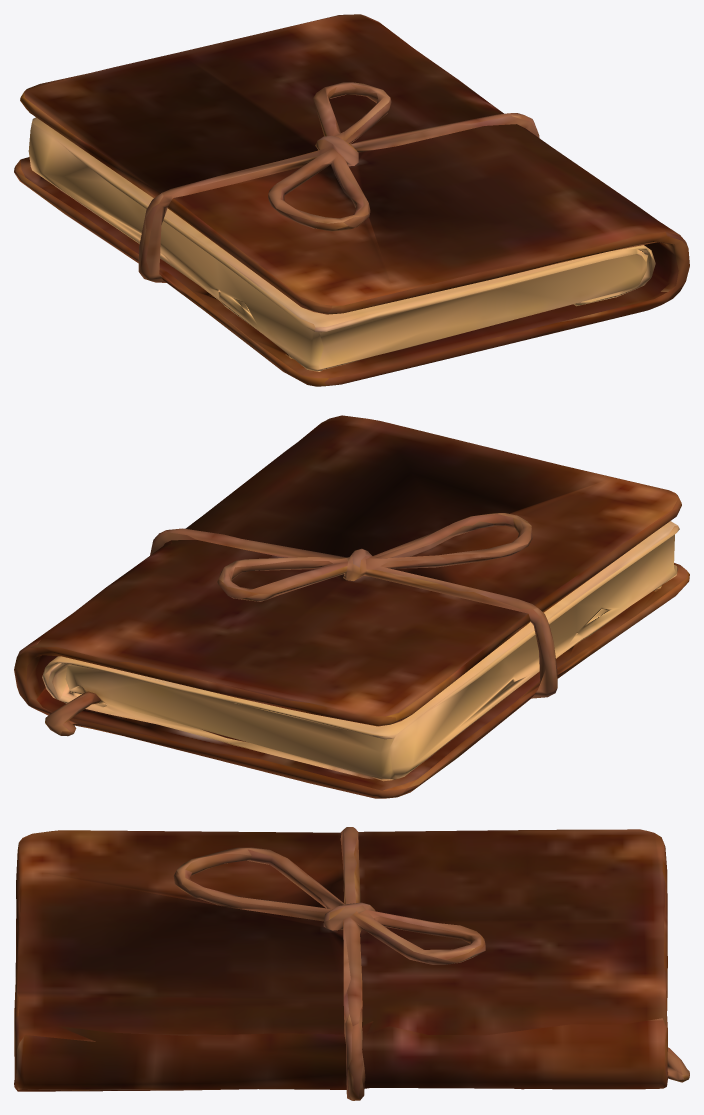
The model's file is libreta.movil.glb.
3 views of the same model, one above another, from view 1: azimuth 30°, elevation 25°; view 2: azimuth 150°, elevation 25°; view 3: azimuth 270°, elevation 25° (orthographic). The views are drawn at different scales.
Parts seen in each view (by area): view 1: geometry_0; view 2: geometry_0; view 3: geometry_0.
Boxes of the visible parts, <box> form: geometry_0: <box>14,14,689,386</box>; geometry_0: <box>14,415,689,798</box>; geometry_0: <box>14,827,689,1100</box>.
Size of the model in its own units: 0.16 by 0.0398 by 0.2199.
Materials: 1 (1 with a texture image).
